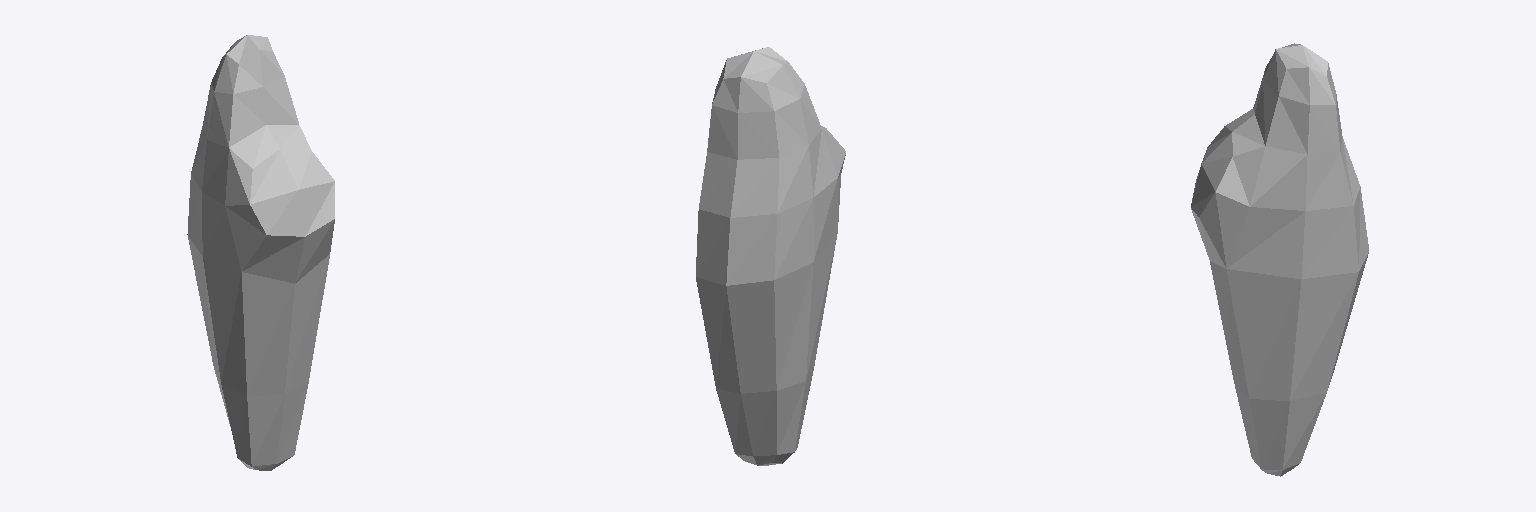
The model's file is Rock03.obj.
The picture shows the model from 3 angles: view 1: azimuth 30°, elevation 25°; view 2: azimuth 150°, elevation 25°; view 3: azimuth 270°, elevation 25°; orthographic projection.
Parts seen in each view (by area): view 1: Rock03; view 2: Rock03; view 3: Rock03.
Boxes of the visible parts, <box> form: Rock03: <box>187,35,334,470</box>; Rock03: <box>696,47,845,465</box>; Rock03: <box>1191,43,1368,476</box>.
Size of the model in its own units: 90.27 by 363 by 139.